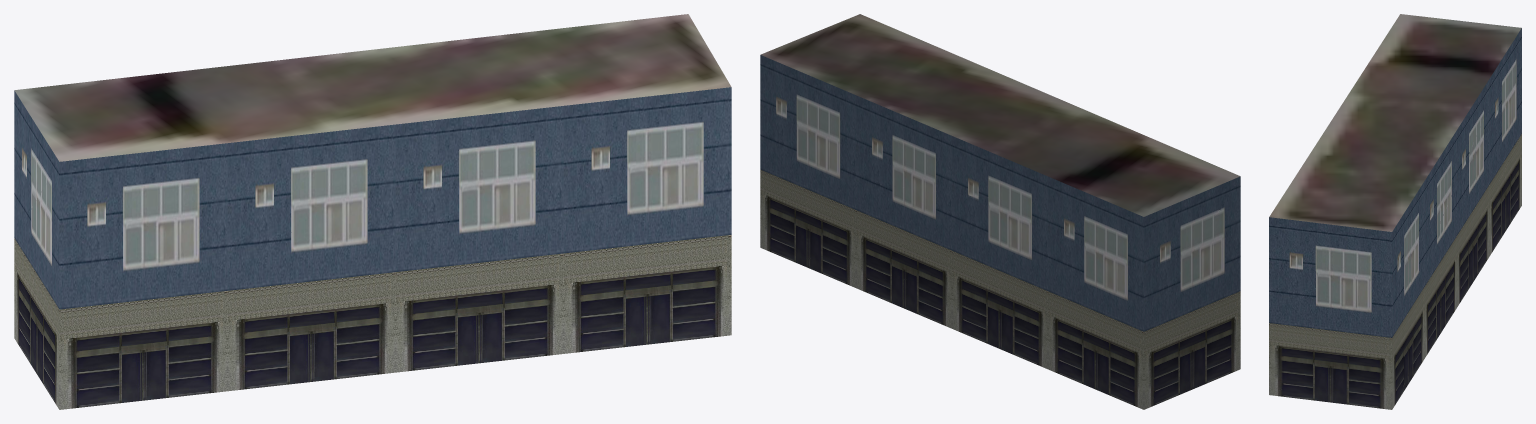
The model's file is T_1T1R54NUMW.dae.
The picture shows the model from 3 angles, left to right: view 1: azimuth 30°, elevation 25°; view 2: azimuth 150°, elevation 25°; view 3: azimuth 270°, elevation 25°; orthographic projection. The views are drawn at different scales.
Visible parts, largest first — view 1: SketchUp (×5); view 2: SketchUp (×5); view 3: SketchUp (×5).
Part boxes in pixels (left/top/right/bottom): SketchUp (×5): left=14, top=14, right=731, bottom=409; SketchUp (×5): left=760, top=14, right=1240, bottom=409; SketchUp (×5): left=1269, top=14, right=1521, bottom=409.
Size of the model in its own units: 21.43 by 10.5 by 8.15.
3 materials, 3 textured.
